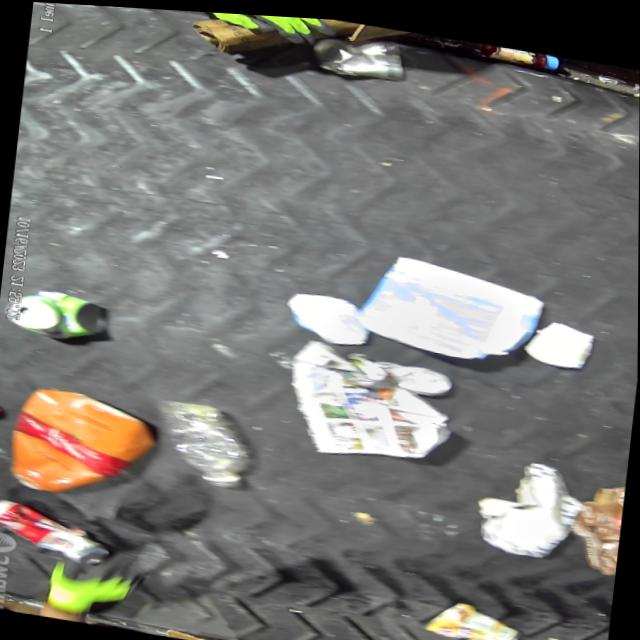can: (0, 495, 118, 568), (2, 281, 109, 347), (310, 23, 410, 83), (340, 347, 455, 397), (419, 588, 526, 640)
non_white_jug: (6, 380, 161, 509)
plastic_bottle: (154, 393, 258, 491)
